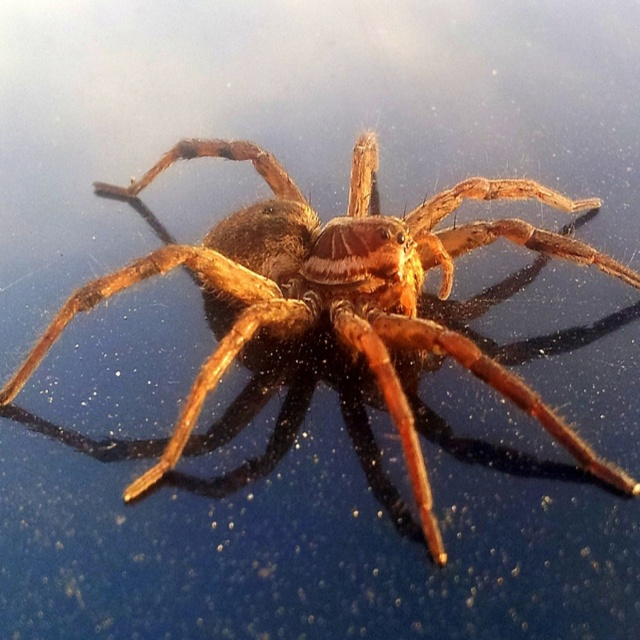Spider: (0, 118, 640, 567)
